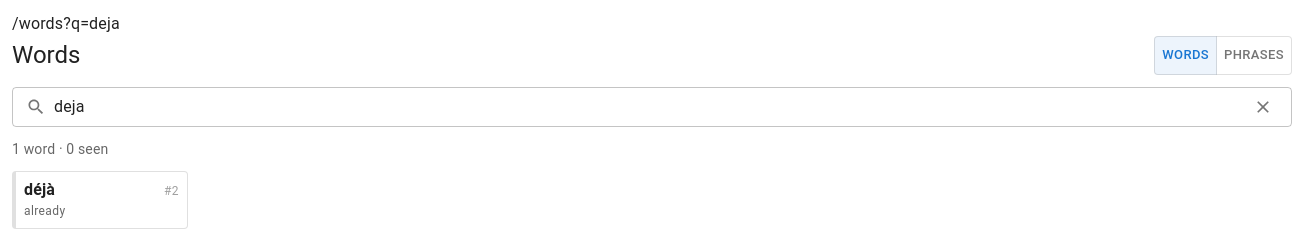
Test: /words list › round-trips the filter through ?q=
Check: the text "/words?q=deja" is shown, box [12,14,120,33]
Check: the number of links is 1, box [12,171,188,229]
// …and written back to it while typing.
Replace the text in the field named "Filter words" with "eau" at (647, 107), box [54,87,1240,127]
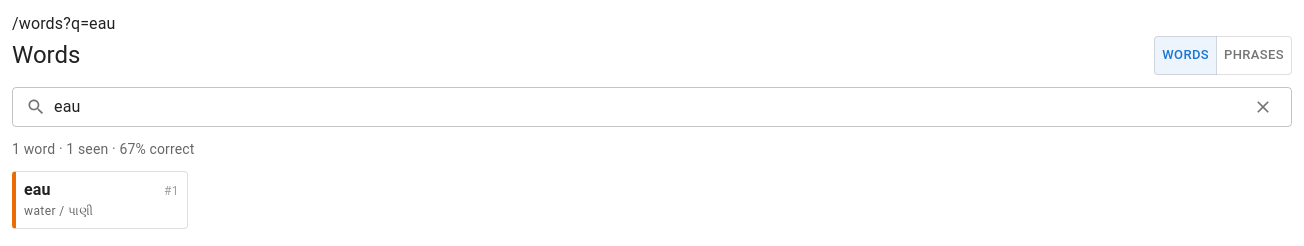
Check: the text with test id "location" reads "/words?q=eau", box [12,14,116,33]
Click the button named "Clear filter".
click(1263, 107)  # box [1248,92,1278,122]
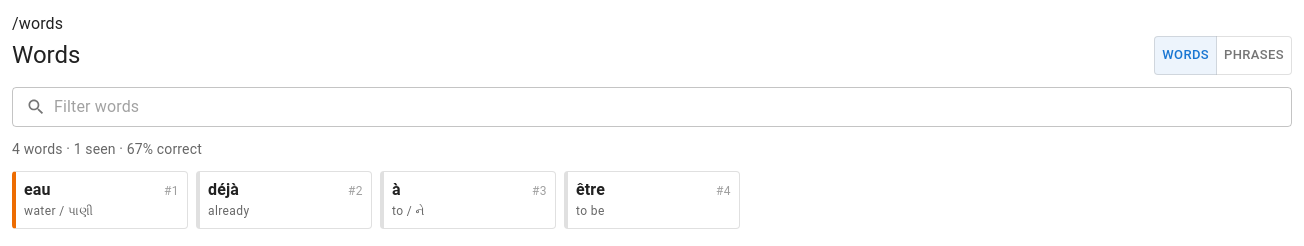
Check: the text with test id "location" reads "/words", box [12,14,63,33]
Check: the field labelled "Filter words" is empty, box [54,87,1292,127]
